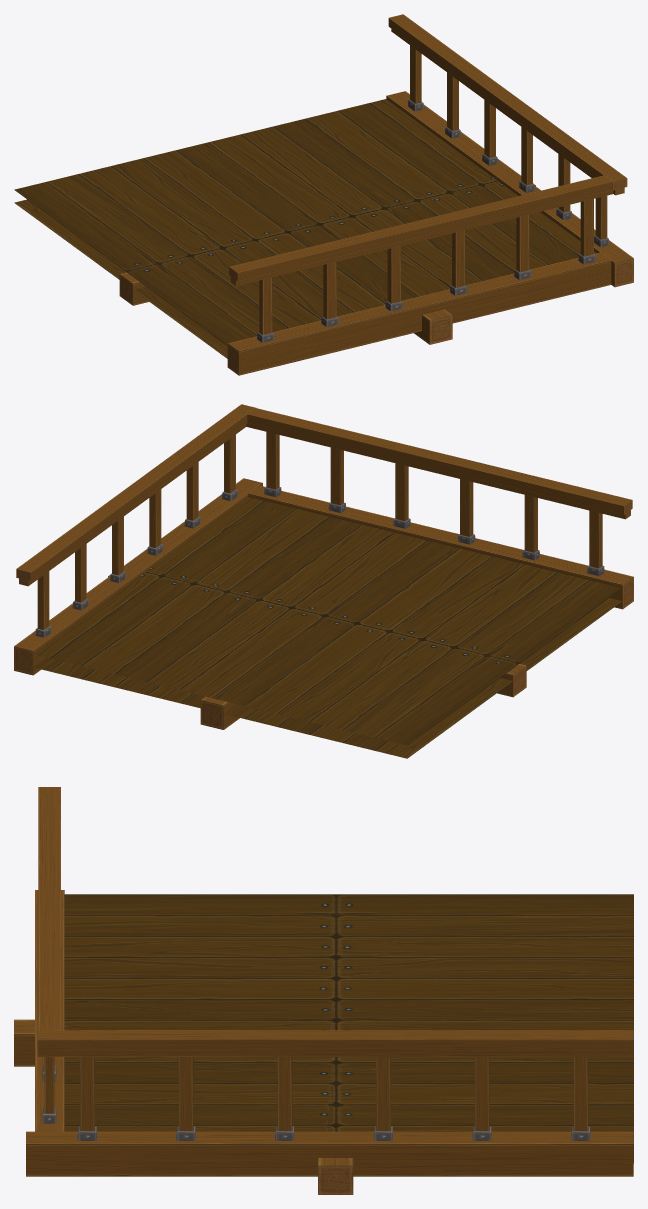
File: SM_Terrace_Floor_Corner.fbx
3 renders of one model, top to bottom at view 1: azimuth 30°, elevation 25°; view 2: azimuth 150°, elevation 25°; view 3: azimuth 270°, elevation 25°, orthographic. The views are drawn at different scales.
Parts seen in each view (by area): view 1: SM_Terrace_Floor_Corner; view 2: SM_Terrace_Floor_Corner; view 3: SM_Terrace_Floor_Corner.
Boxes of the visible parts, <box> form: SM_Terrace_Floor_Corner: <box>14,14,633,375</box>; SM_Terrace_Floor_Corner: <box>14,404,633,758</box>; SM_Terrace_Floor_Corner: <box>14,787,633,1194</box>.
Bounding box in the file's own units: 5.2 × 1.35 × 5.21.
